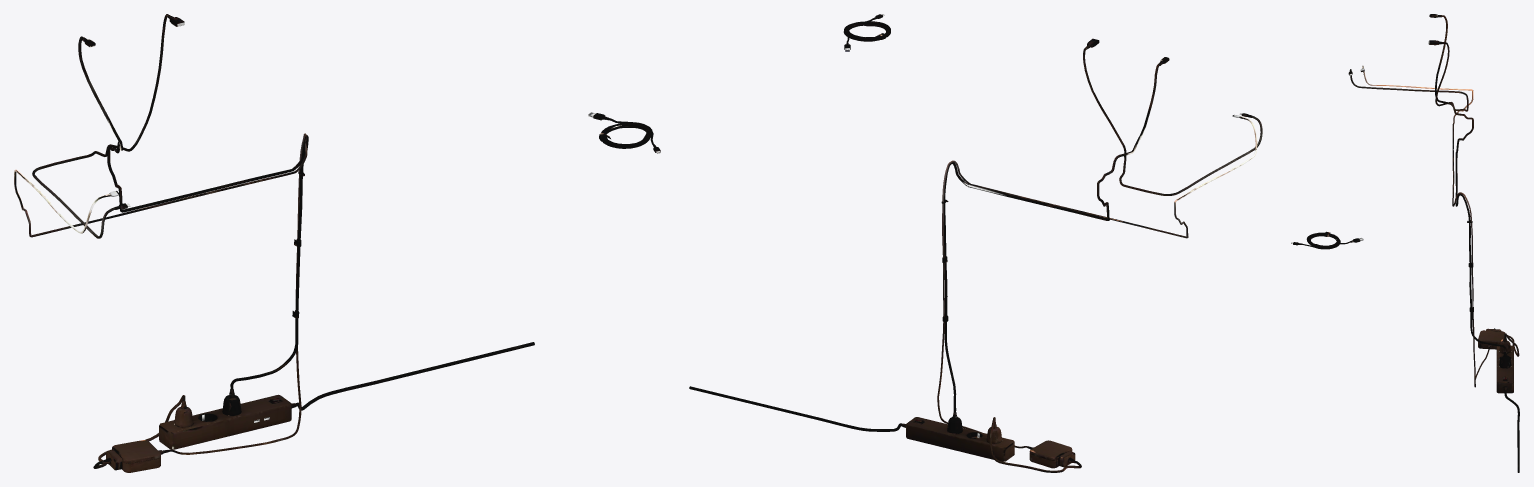
The model's file is cables.glb.
The picture shows the model from 3 angles, left to right: view 1: azimuth 30°, elevation 25°; view 2: azimuth 150°, elevation 25°; view 3: azimuth 270°, elevation 25°; orthographic projection. The views are drawn at different scales.
Visible parts, largest first — view 1: NEW_cables_root__mesh; view 2: NEW_cables_root__mesh; view 3: NEW_cables_root__mesh.
Part boxes in pixels (x1=…): NEW_cables_root__mesh: x1=14, y1=14, x2=660, y2=472; NEW_cables_root__mesh: x1=689, y1=14, x2=1262, y2=472; NEW_cables_root__mesh: x1=1291, y1=14, x2=1519, y2=472.
Bounding box in the file's own units: 1.31 × 1.05 × 0.7198.
Materials: 3 (3 with a texture image).
